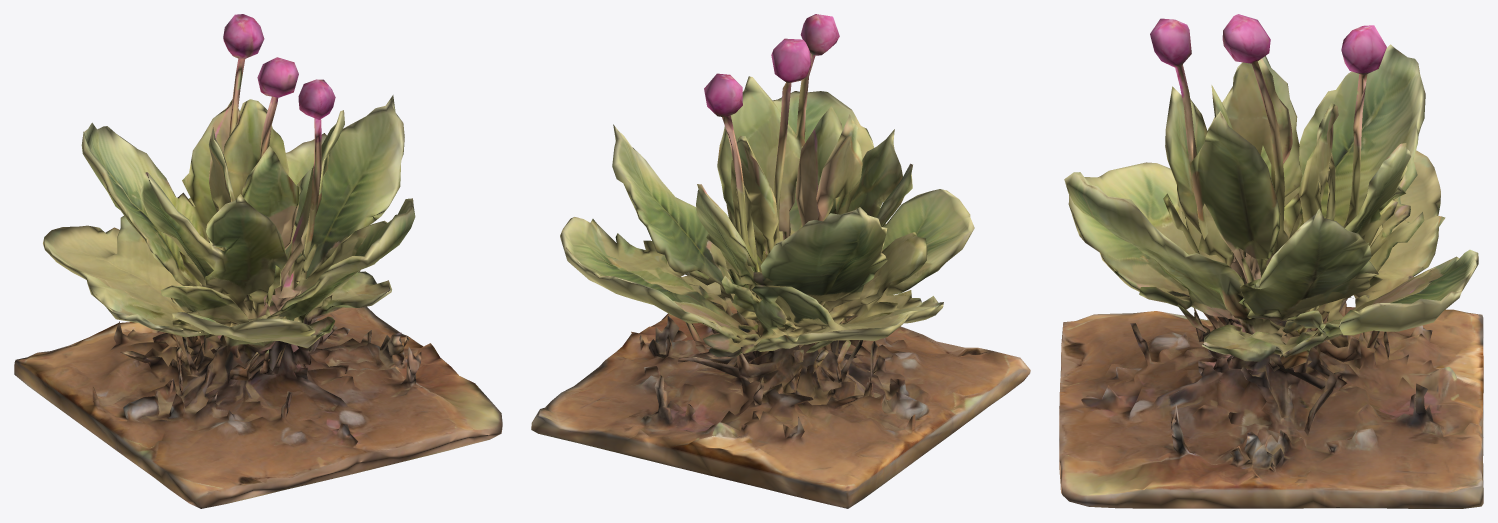
Rendered from Alien_Plant.fbx.
The picture shows the model from 3 angles, left to right: view 1: azimuth 30°, elevation 25°; view 2: azimuth 150°, elevation 25°; view 3: azimuth 270°, elevation 25°; orthographic projection. The views are drawn at different scales.
Visible parts, largest first — view 1: Mesh_0; view 2: Mesh_0; view 3: Mesh_0.
Part boxes in pixels (x1,y1,x2,y2): Mesh_0: [14, 14, 502, 508]; Mesh_0: [531, 14, 1030, 508]; Mesh_0: [1059, 14, 1483, 508].
Bounding box in the file's own units: 194 × 200 × 190.
1 material, 1 textured.
